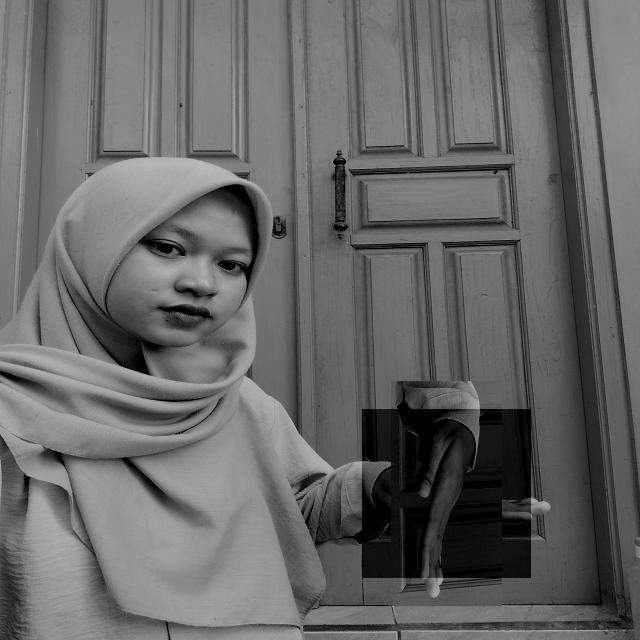adik: (362, 409, 531, 578)
